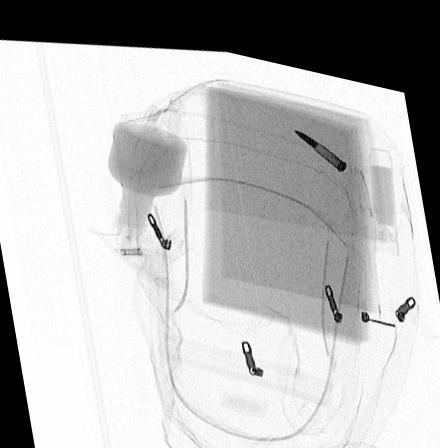Bullet: (292, 115, 347, 156)
